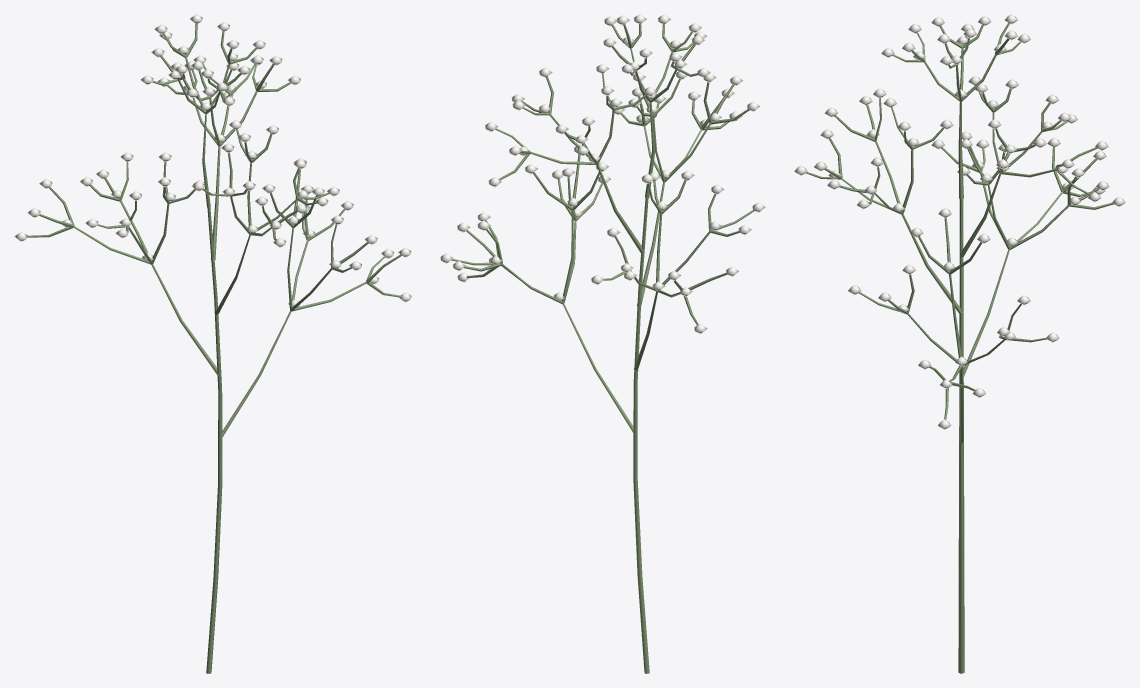
Rendered from gypsophila.glb.
The picture shows the model from 3 angles, left to right: view 1: azimuth 30°, elevation 25°; view 2: azimuth 150°, elevation 25°; view 3: azimuth 270°, elevation 25°; orthographic projection.
Visible parts, largest first — view 1: gypsophila; view 2: gypsophila; view 3: gypsophila.
Boxes of the visible parts, x1,y1,x2,y2 form: gypsophila: [14, 14, 411, 673]; gypsophila: [440, 14, 765, 673]; gypsophila: [794, 14, 1125, 673].
Bounding box in the file's own units: 0.2212 × 0.414 × 0.1902.
